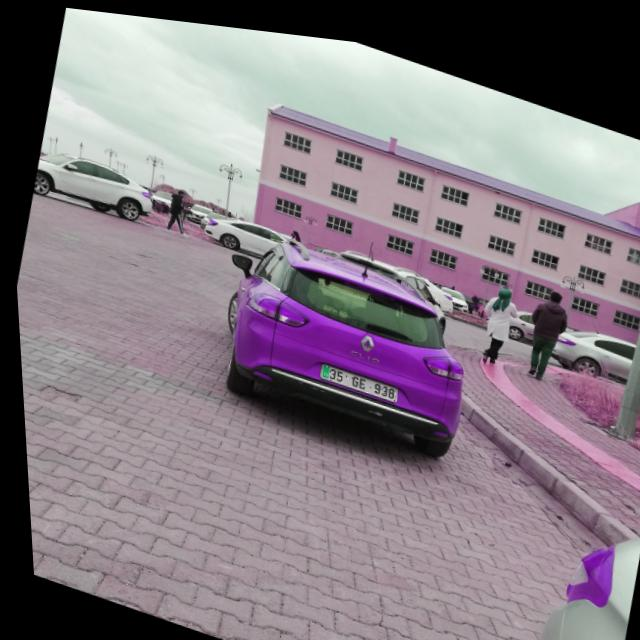license_plate: (316, 356, 393, 393)
